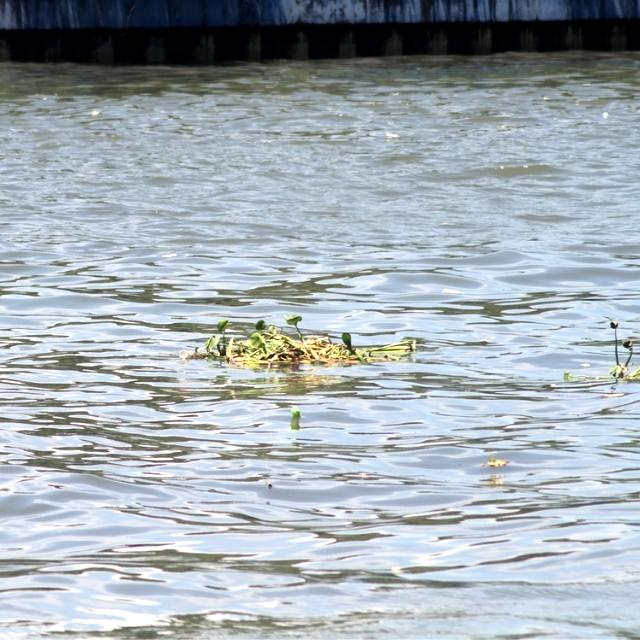water-hyacinth: (188, 323, 437, 374), (557, 317, 640, 388)
